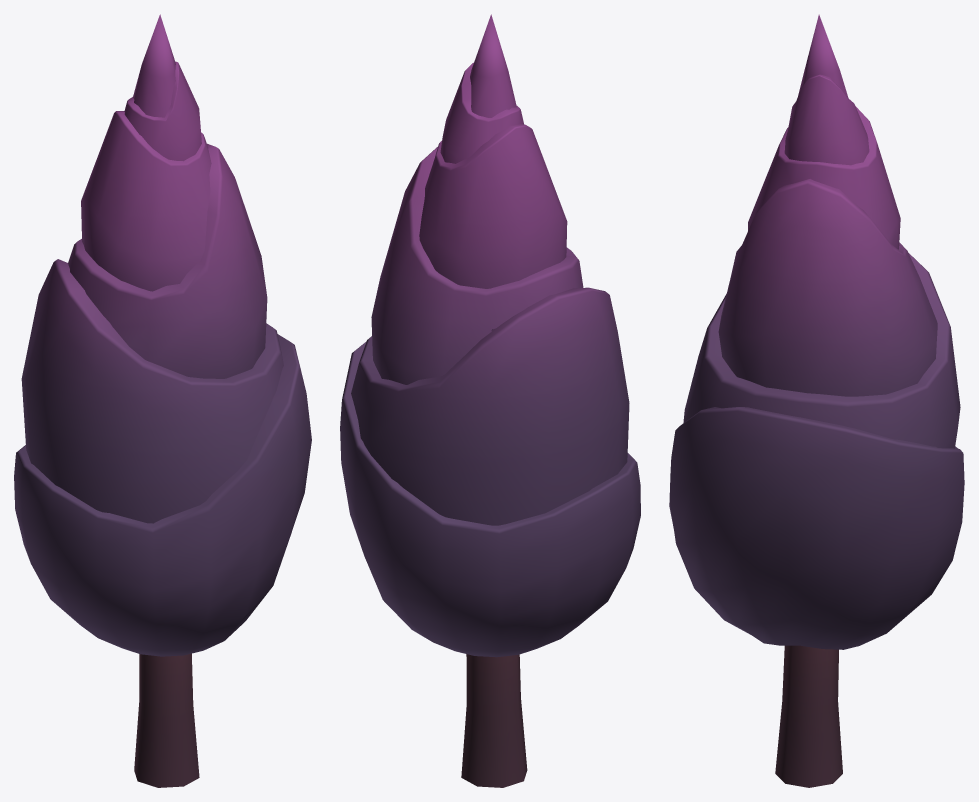
The model's file is Tree_004.fbx.
The picture shows the model from 3 angles, left to right: view 1: azimuth 30°, elevation 25°; view 2: azimuth 150°, elevation 25°; view 3: azimuth 270°, elevation 25°; orthographic projection.
Visible parts, largest first — view 1: Tree.004; view 2: Tree.004; view 3: Tree.004.
Boxes of the visible parts, x1,y1,x2,y2 form: Tree.004: [14, 14, 311, 787]; Tree.004: [340, 14, 640, 787]; Tree.004: [669, 14, 964, 787].
Bounding box in the file's own units: 1.97 × 5.64 × 1.99.
